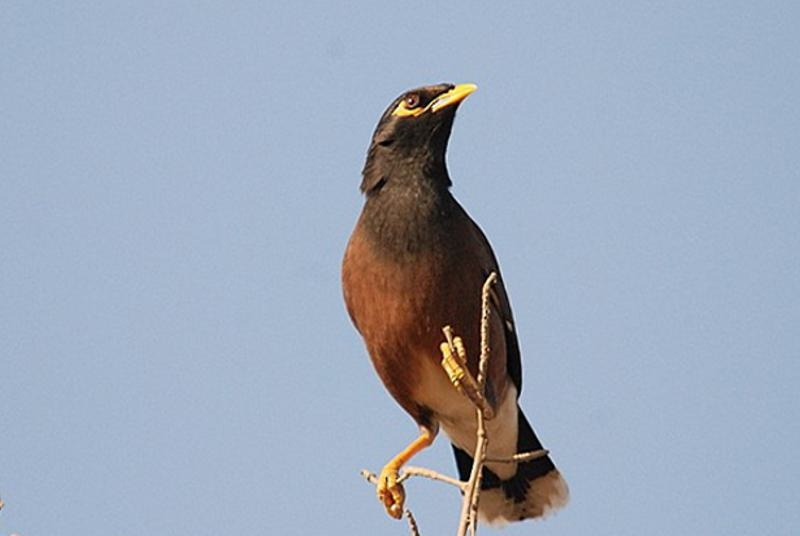myna: (334, 79, 608, 519)
